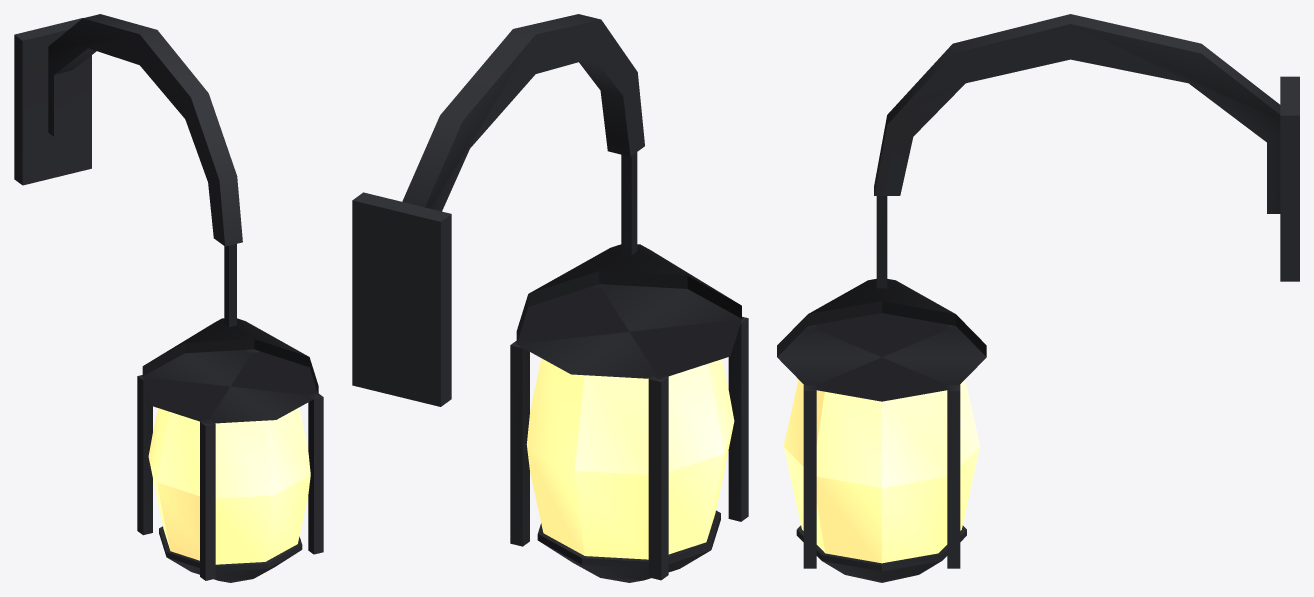
File: lamp_lantern.gltf
3 renders of one model, left to right at view 1: azimuth 30°, elevation 25°; view 2: azimuth 150°, elevation 25°; view 3: azimuth 270°, elevation 25°, orthographic. The views are drawn at different scales.
Parts seen in each view (by area): view 1: lamp_lantern; view 2: lamp_lantern; view 3: lamp_lantern.
Boxes of the visible parts, bbox=[...] form: lamp_lantern: bbox=[14, 14, 323, 582]; lamp_lantern: bbox=[352, 14, 748, 582]; lamp_lantern: bbox=[777, 14, 1299, 582].
Bounding box in the file's own units: 0.32 × 0.95 × 0.798.
2 materials, 1 textured.
